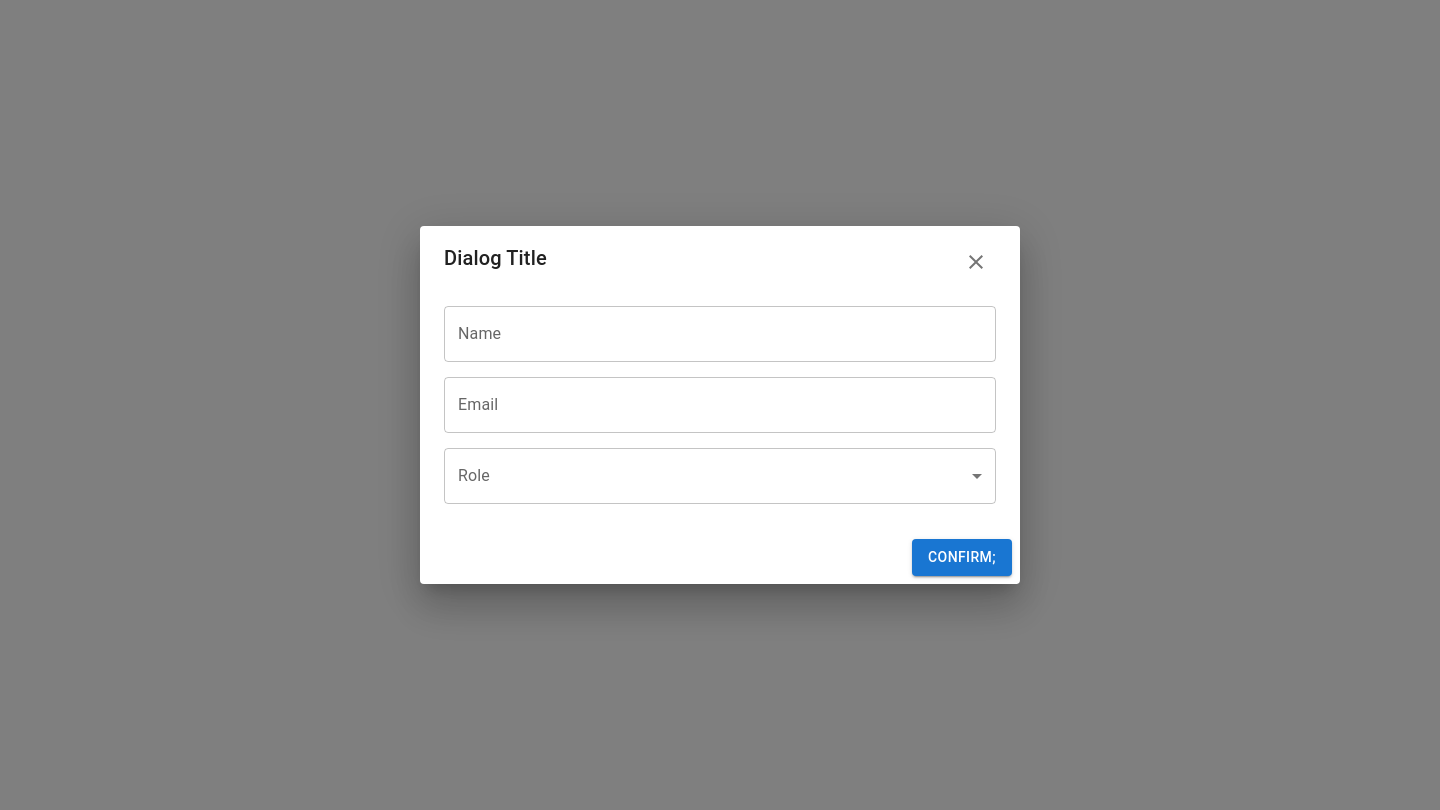
UserActionDialog › Validation › should validate required fields correctly
Step 1. Click the button with test id "user-create-confirm-button" → x=962, y=558, box [912,539,1012,576]
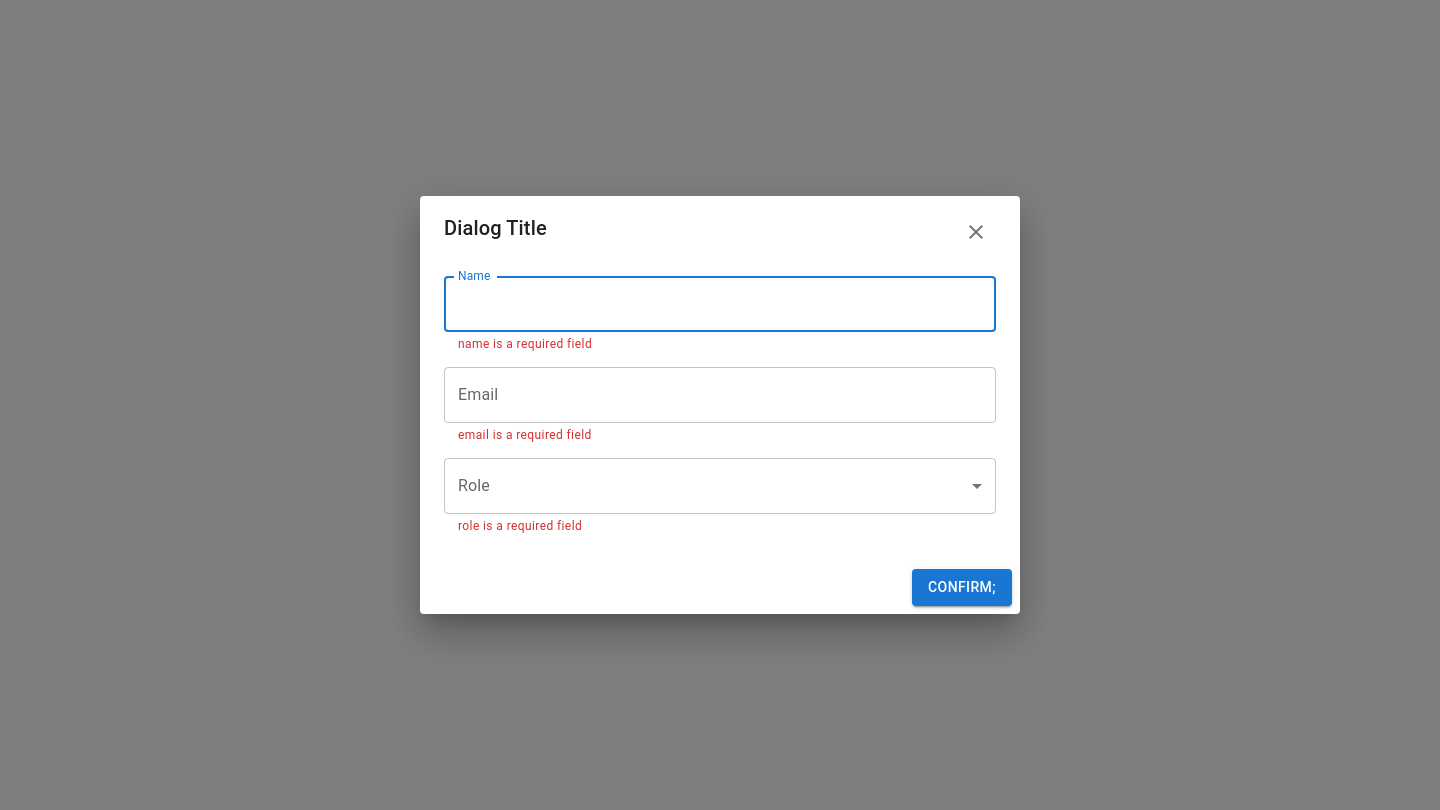
expect the text with test id "user-create-name-error" reads "name is a required field": met, box [458,337,592,351]
expect the text with test id "user-create-email-error" reads "email is a required field": met, box [458,428,592,442]
expect the text with test id "user-create-role-error" reads "role is a required field": met, box [458,519,582,533]
